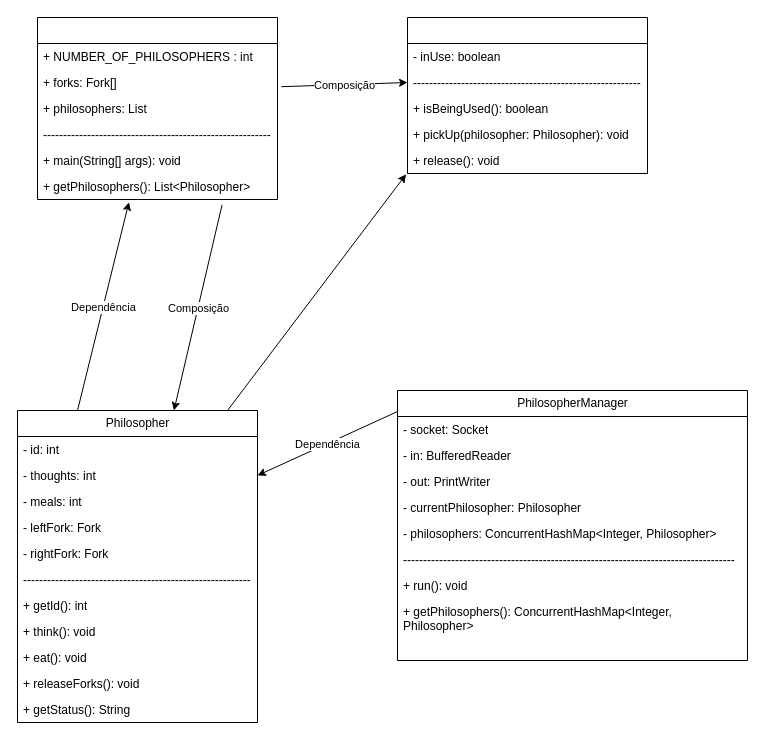
The diagram is 765 pixels wide and 743 high, and some of its shapes have lost their labels. Here are the shapes that lost their labels. From the top down, the box of each, then its label:
(36, 16, 278, 200): TelnetServer
(406, 16, 648, 174): Fork
